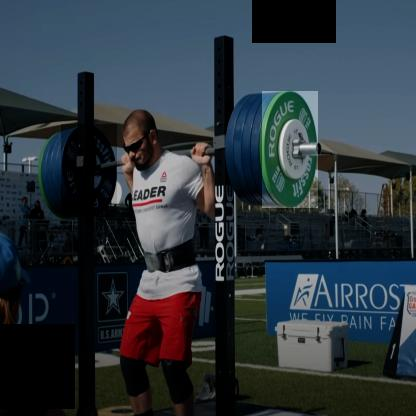barbell: (263, 92, 319, 209), (62, 125, 118, 218)
